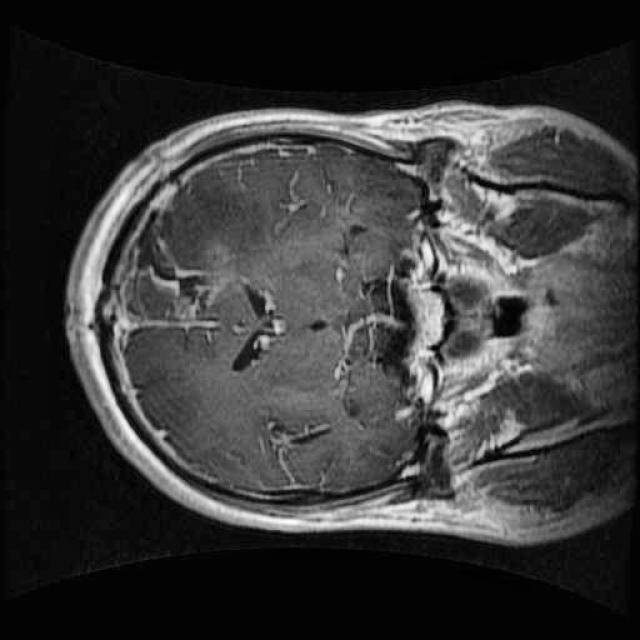Tumor: (88, 189, 234, 359)
